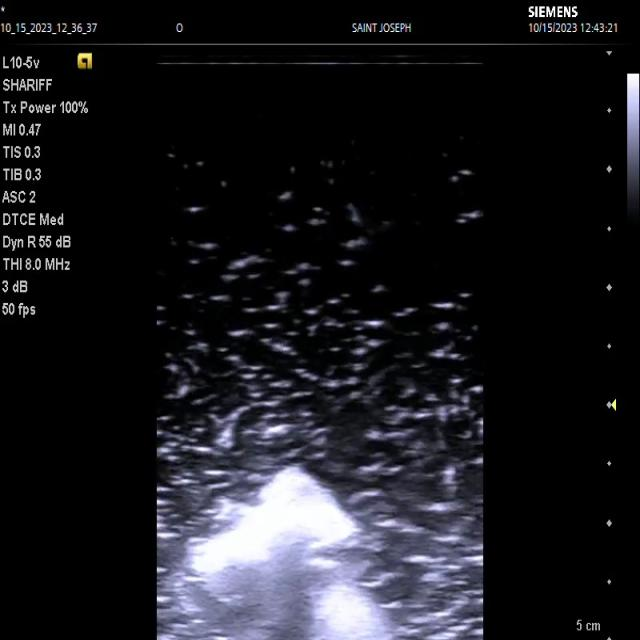tissue: (191, 468, 386, 640)
